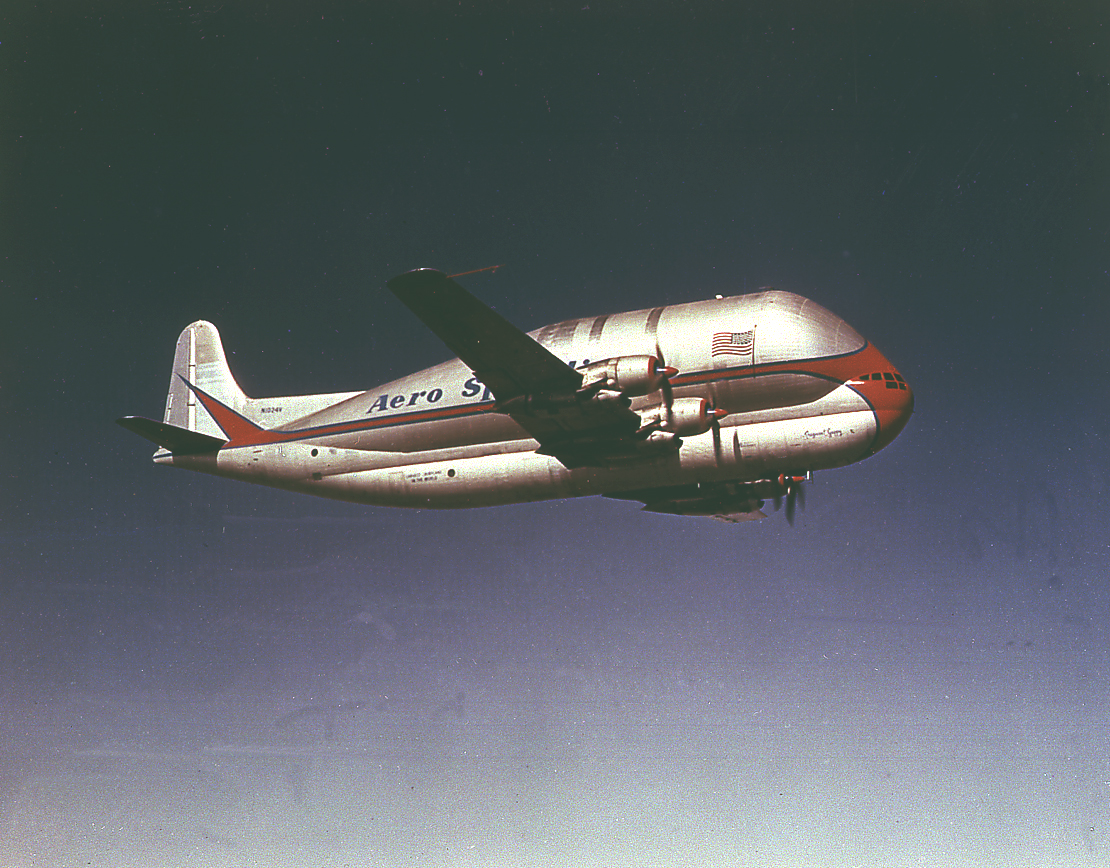aircraft: (113, 252, 916, 516)
